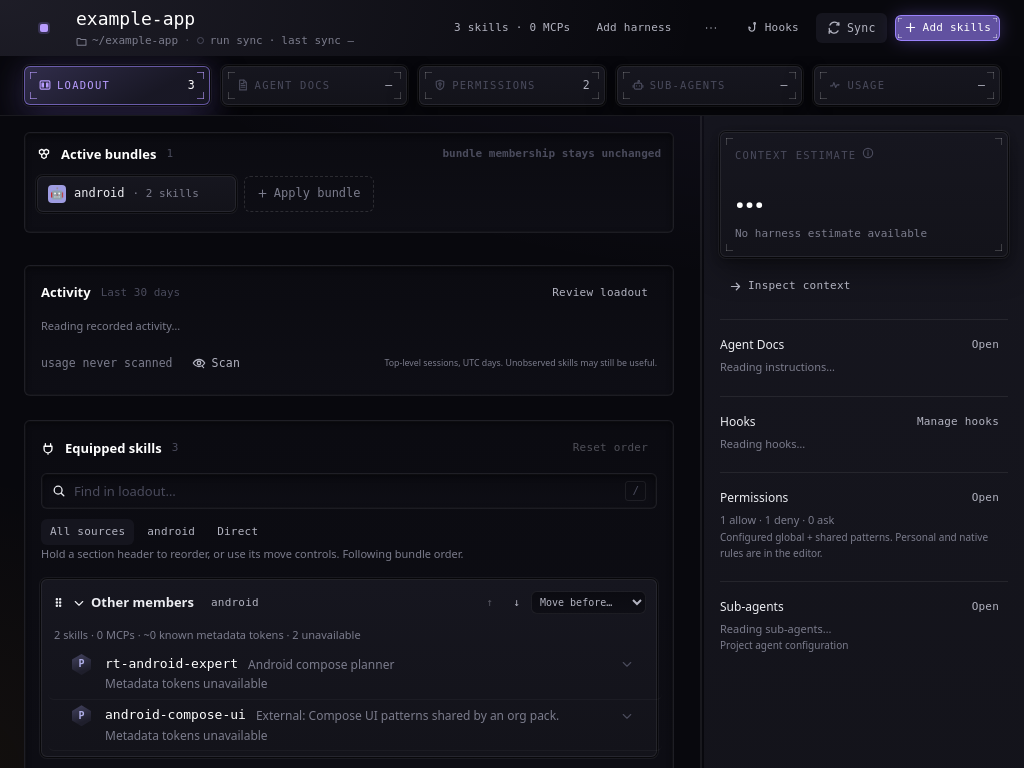
Test: ProjectWorkspace equip UX › expands an available skill summary without equipping it
This screenshot has width=1024, height=768.
Click the button "Add skills" at (947, 28), box [895,15,1000,41]
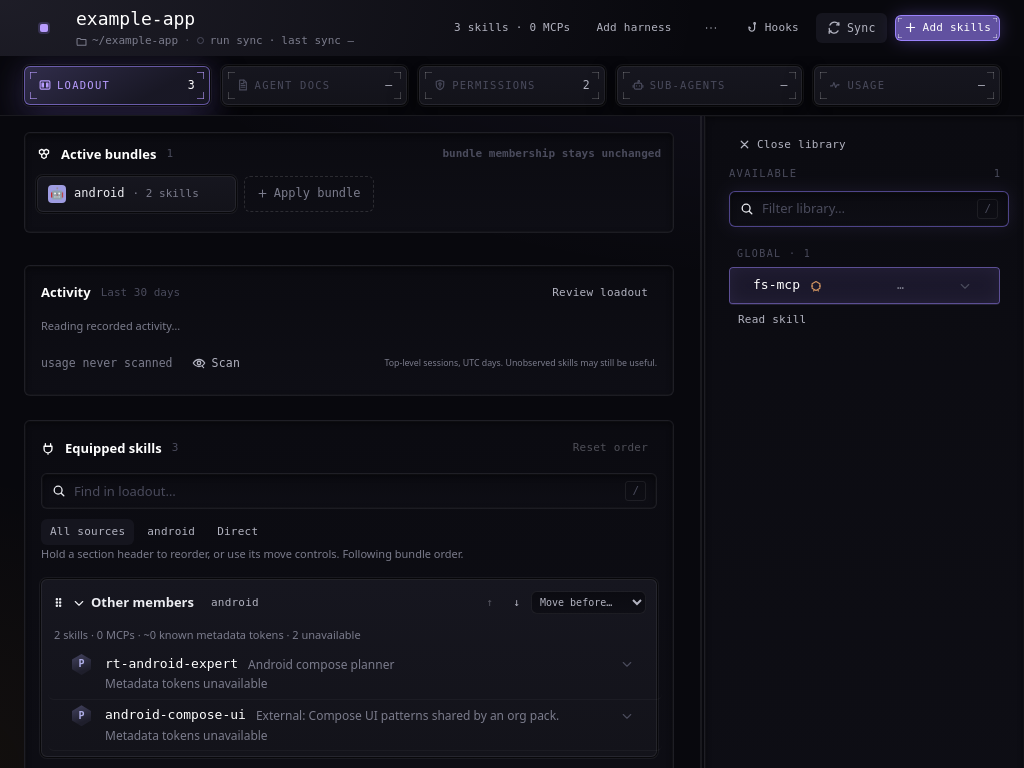
Now the button named "Equip fs-mcp" is shown, box [729,267,1000,305]
Click the button named "Show fs-mcp summary" at (965, 286), box [954,275,976,297]
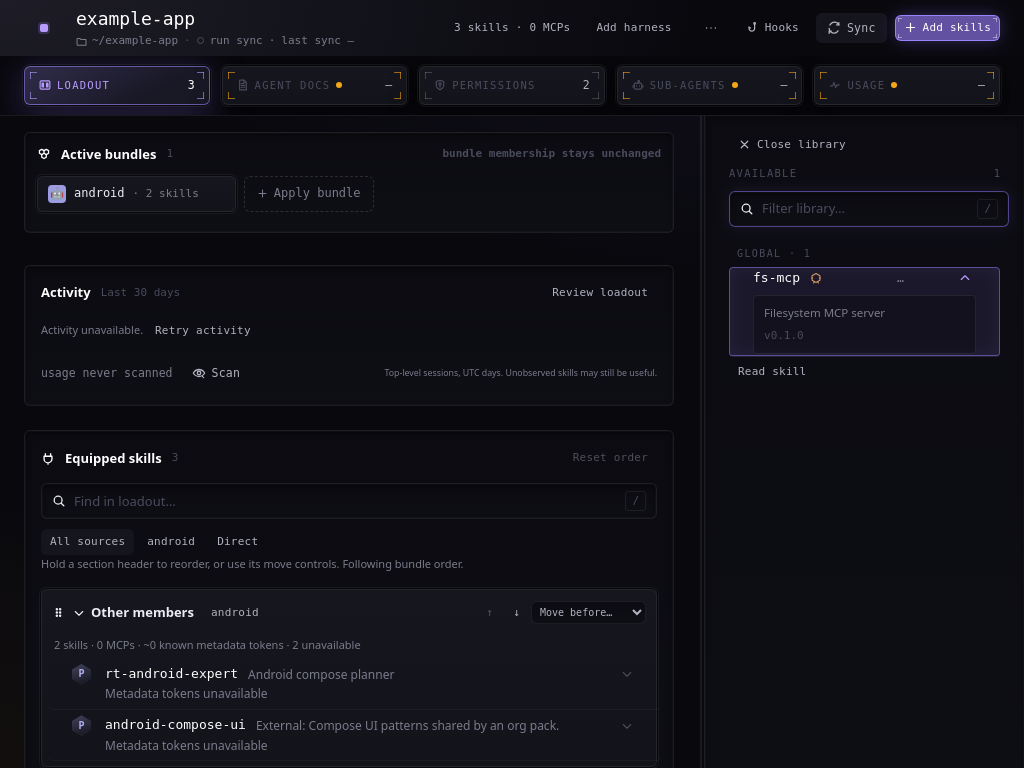
Now the button named "Equip fs-mcp" is enabled, box [729,267,1000,357]
Now the text "Filesystem MCP server" is shown, box [764,305,885,320]
